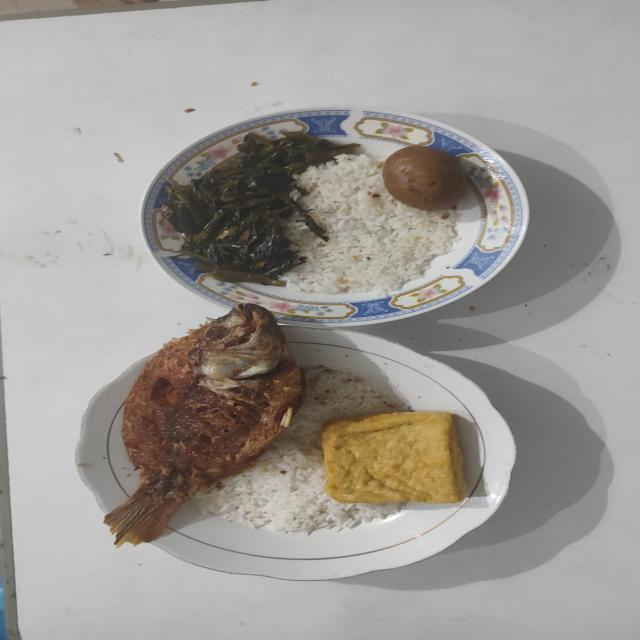ikan_mujair: (104, 304, 306, 546)
nasi_putih: (196, 366, 407, 534), (286, 156, 460, 296)
tahu_goreng: (322, 412, 464, 504)
tumis_kangkung: (163, 133, 354, 281)
